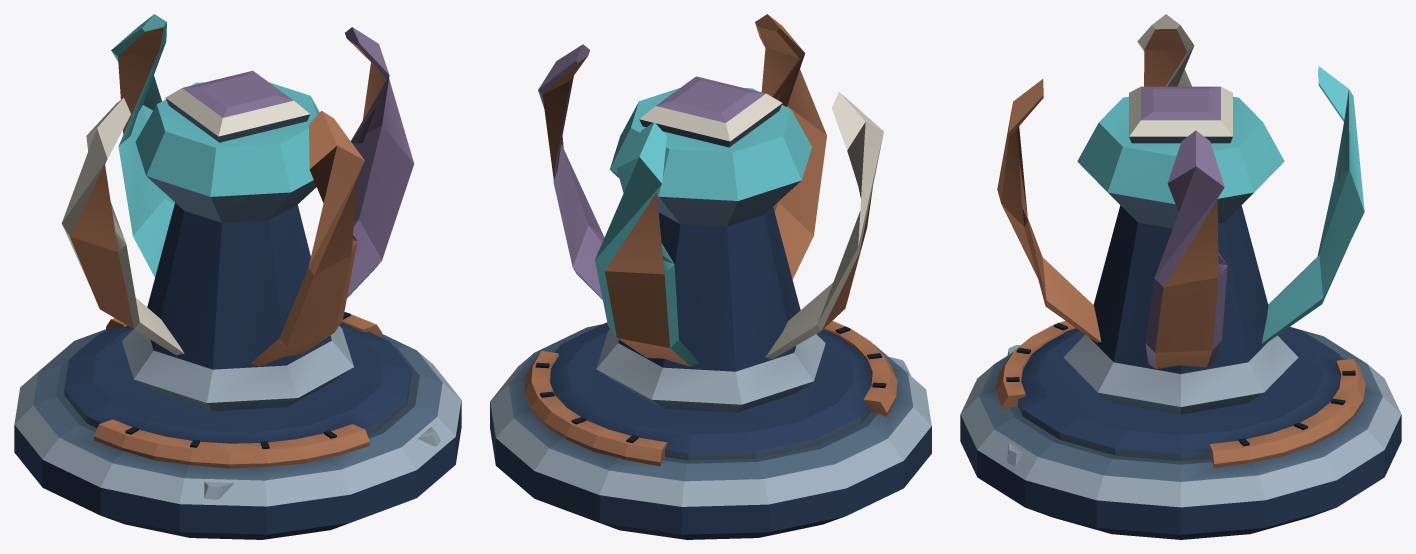
The model's file is multiFilter.glb.
3 views of the same model, side by side, from view 1: azimuth 30°, elevation 25°; view 2: azimuth 150°, elevation 25°; view 3: azimuth 270°, elevation 25° (orthographic). The views are drawn at different scales.
Visible parts, largest first — view 1: multiFilter; view 2: multiFilter; view 3: multiFilter.
Part boxes in pixels (<box>): multiFilter: <box>14,14,461,539</box>; multiFilter: <box>490,14,931,539</box>; multiFilter: <box>960,14,1401,539</box>.
Size of the model in its own units: 1.02 by 0.998 by 1.02.
